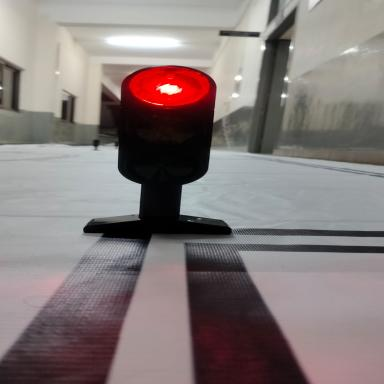traffic red: (66, 52, 289, 279)
